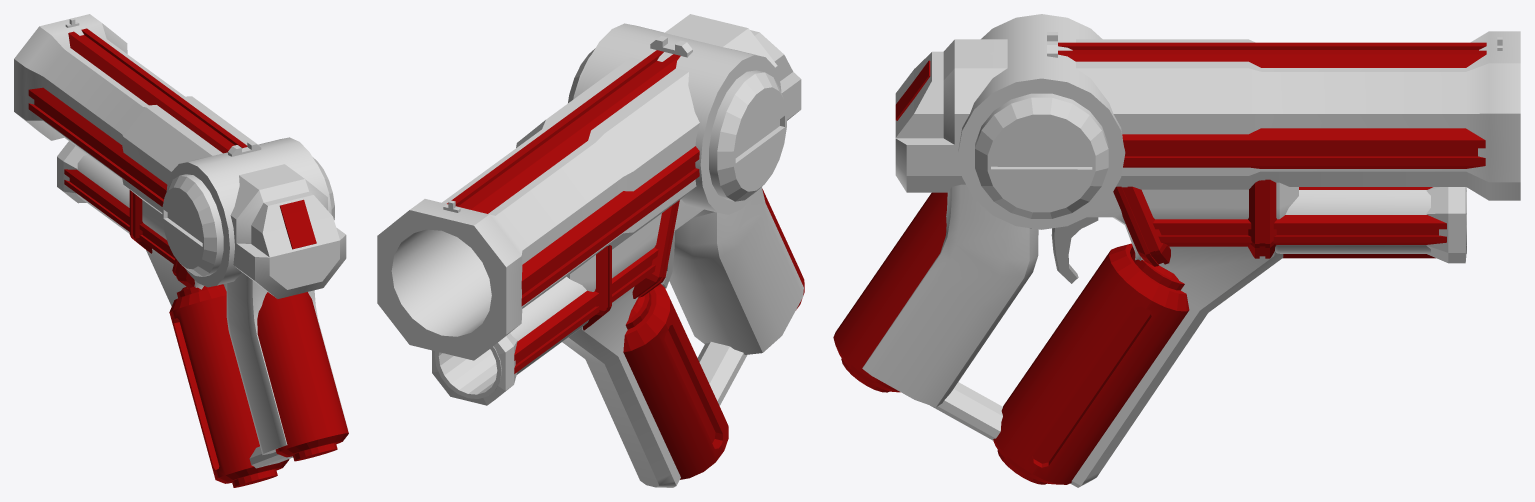
Rendered from GUN_Red.fbx.
3 views of the same model, side by side, from view 1: azimuth 30°, elevation 25°; view 2: azimuth 150°, elevation 25°; view 3: azimuth 270°, elevation 25° (orthographic). The views are drawn at different scales.
Parts seen in each view (by area): view 1: polySurface4; view 2: polySurface4; view 3: polySurface4.
Part boxes in pixels (x1,y1,x2,y2): polySurface4: (14, 14, 348, 487); polySurface4: (377, 14, 804, 487); polySurface4: (833, 14, 1520, 487).
Bounding box in the file's own units: 2.25 × 5.6 × 7.88.
